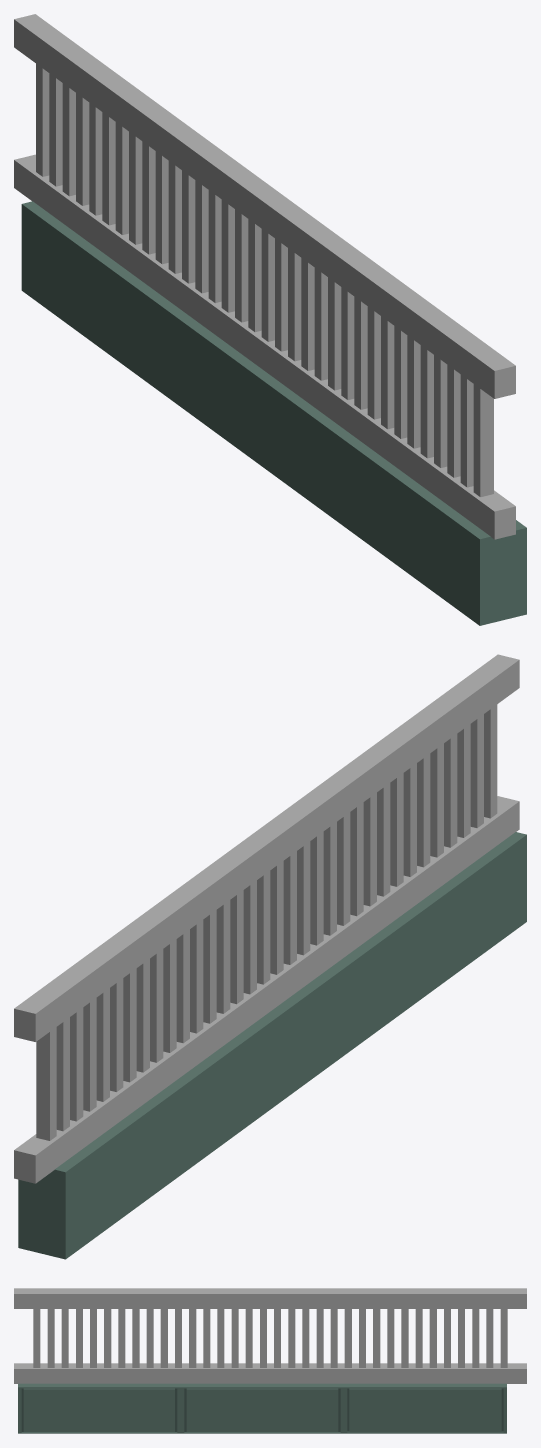
File: Wall_Rails_2.fbx
3 renders of one model, top to bottom at view 1: azimuth 30°, elevation 25°; view 2: azimuth 150°, elevation 25°; view 3: azimuth 270°, elevation 25°, orthographic. The views are drawn at different scales.
Parts seen in each view (by area): view 1: WallRails.001, Wall.001; view 2: WallRails.001, Wall.001; view 3: WallRails.001, Wall.001.
Part boxes in pixels (bbox=[...]): WallRails.001: bbox=[14, 14, 515, 539]; Wall.001: bbox=[21, 201, 526, 625]; WallRails.001: bbox=[14, 654, 519, 1183]; Wall.001: bbox=[18, 832, 526, 1259]; WallRails.001: bbox=[14, 1288, 526, 1383]; Wall.001: bbox=[18, 1383, 506, 1433].
Size of the model in its own units: 96.36 by 498 by 1701.
2 materials, 2 textured.
